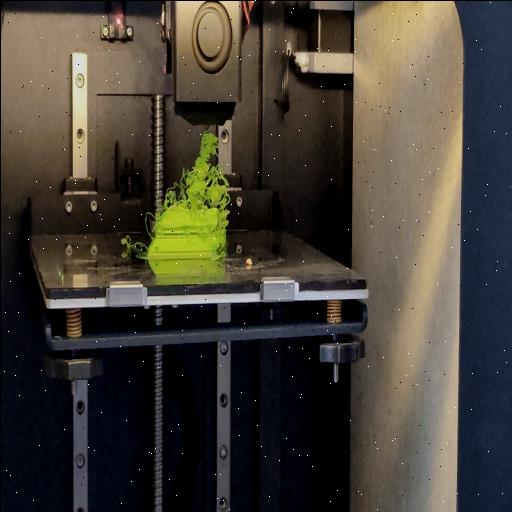spaghetti: (161, 130, 229, 210), (118, 237, 146, 255), (219, 210, 228, 260), (146, 208, 156, 238)
